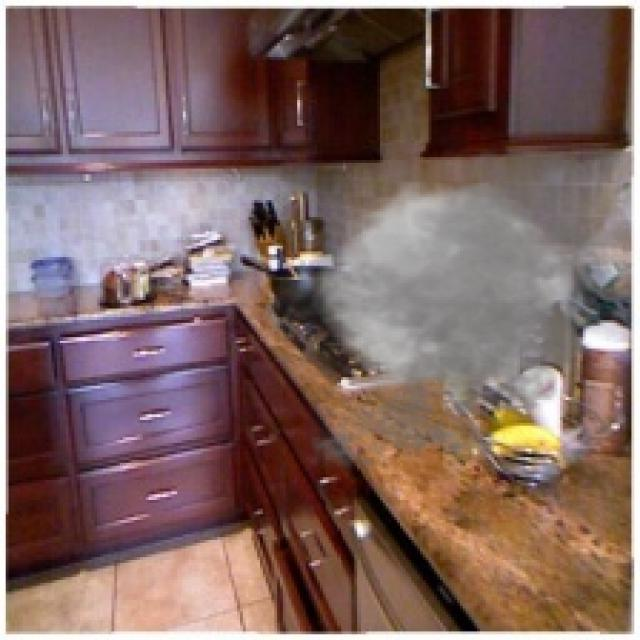smoke: (246, 131, 637, 483)
